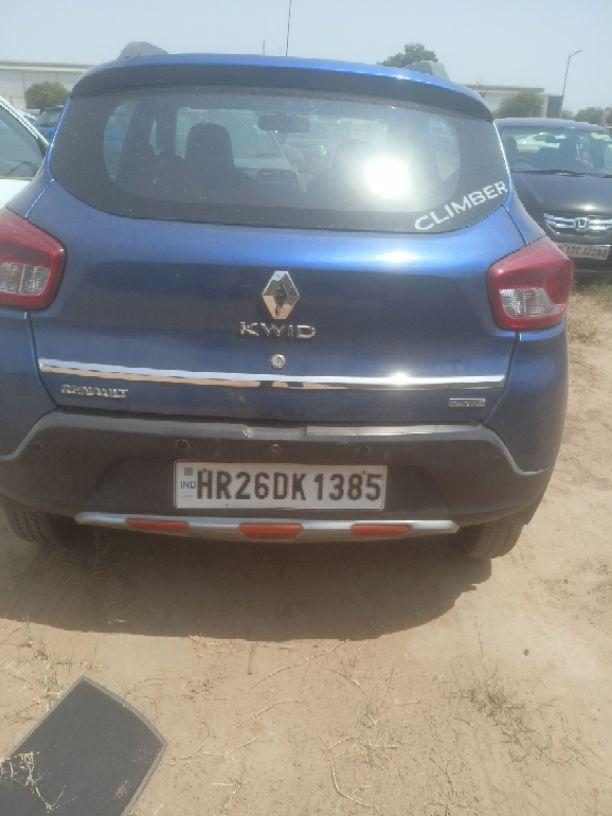license_plate: (171, 459, 388, 511)
